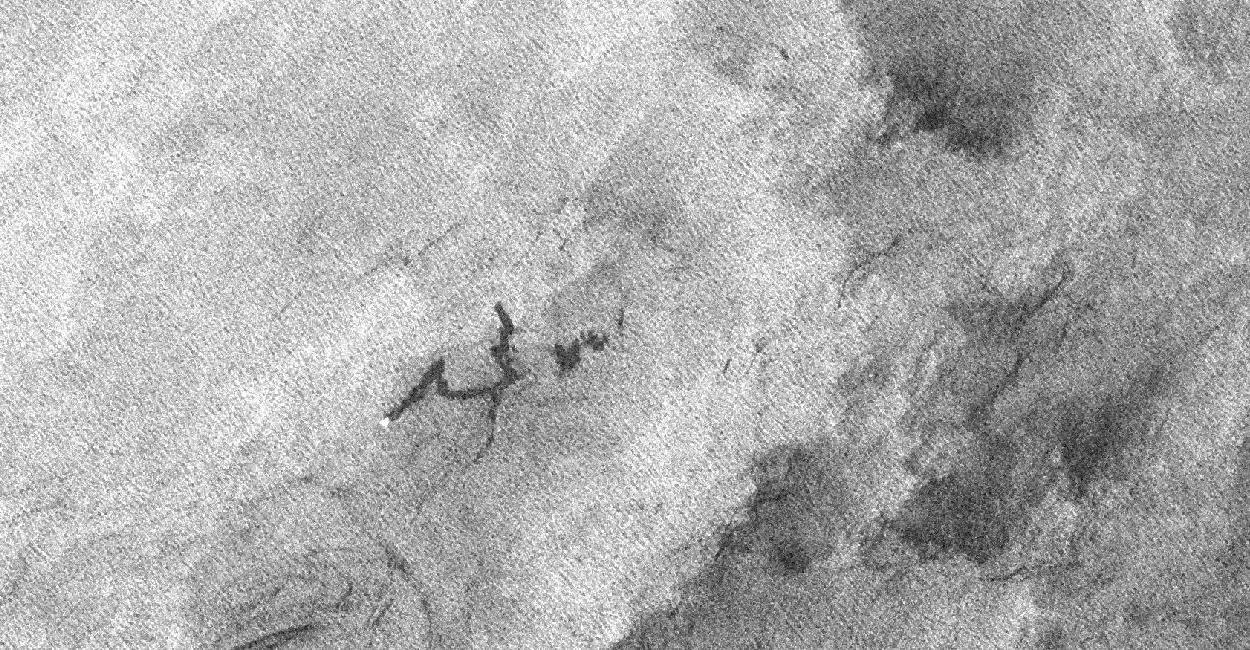Look-alike: (230, 42, 1184, 650)
Oil Spill: (380, 298, 554, 468), (540, 328, 612, 384), (612, 306, 626, 332), (482, 438, 484, 439)
